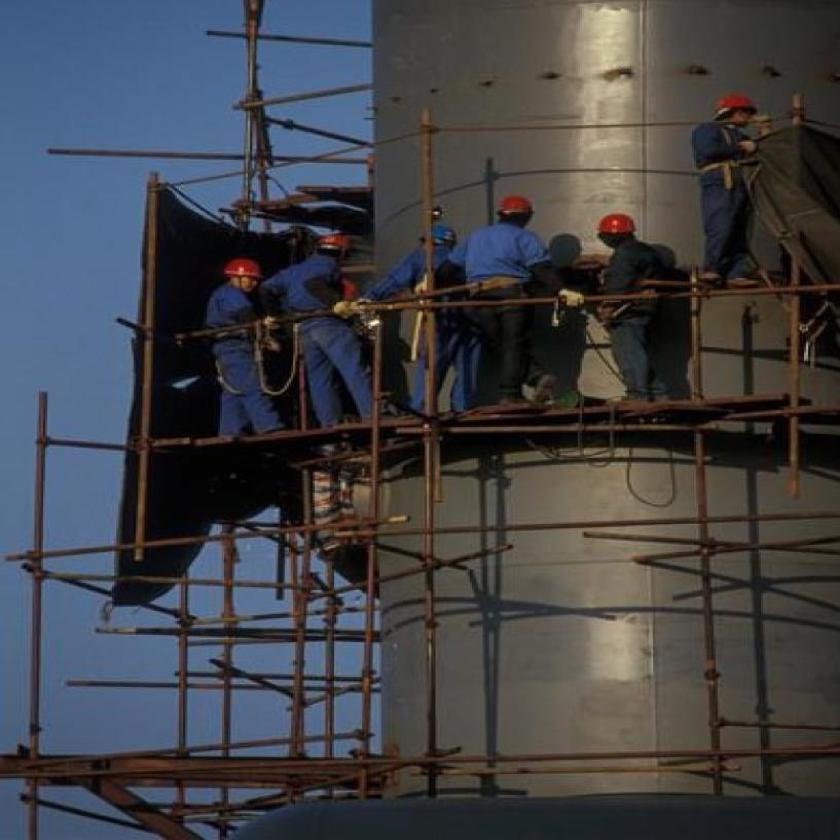Con_casco: (226, 253, 268, 304), (498, 192, 535, 235), (319, 233, 354, 270)
